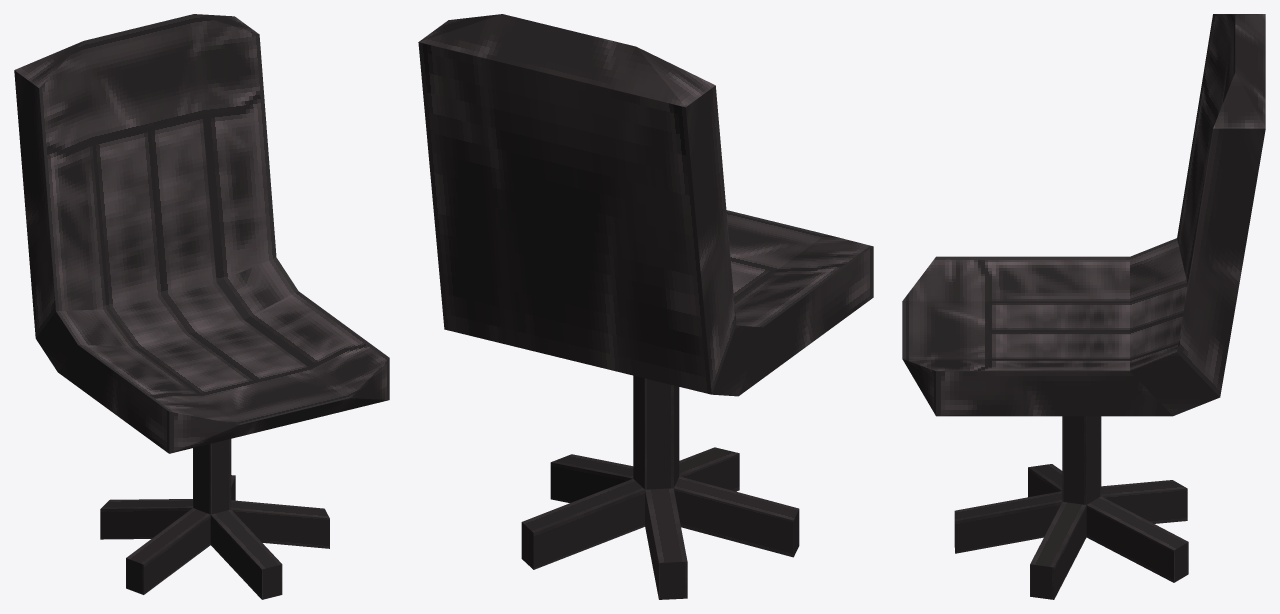
File: chair.fbx
3 views of the same model, side by side, from view 1: azimuth 30°, elevation 25°; view 2: azimuth 150°, elevation 25°; view 3: azimuth 270°, elevation 25° (orthographic). The views are drawn at different scales.
Visible parts, largest first — view 1: chair; view 2: chair; view 3: chair.
Boxes of the visible parts, box(x1,y1,x2,y2) form: chair: box(14, 14, 389, 599); chair: box(418, 14, 873, 599); chair: box(902, 14, 1265, 599).
Size of the model in its own units: 1.73 by 3.55 by 2.32.
